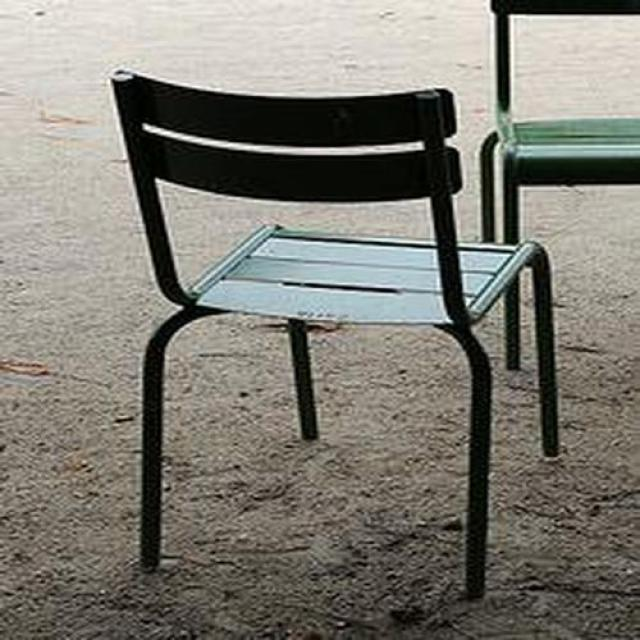chair: (111, 72, 559, 599)
